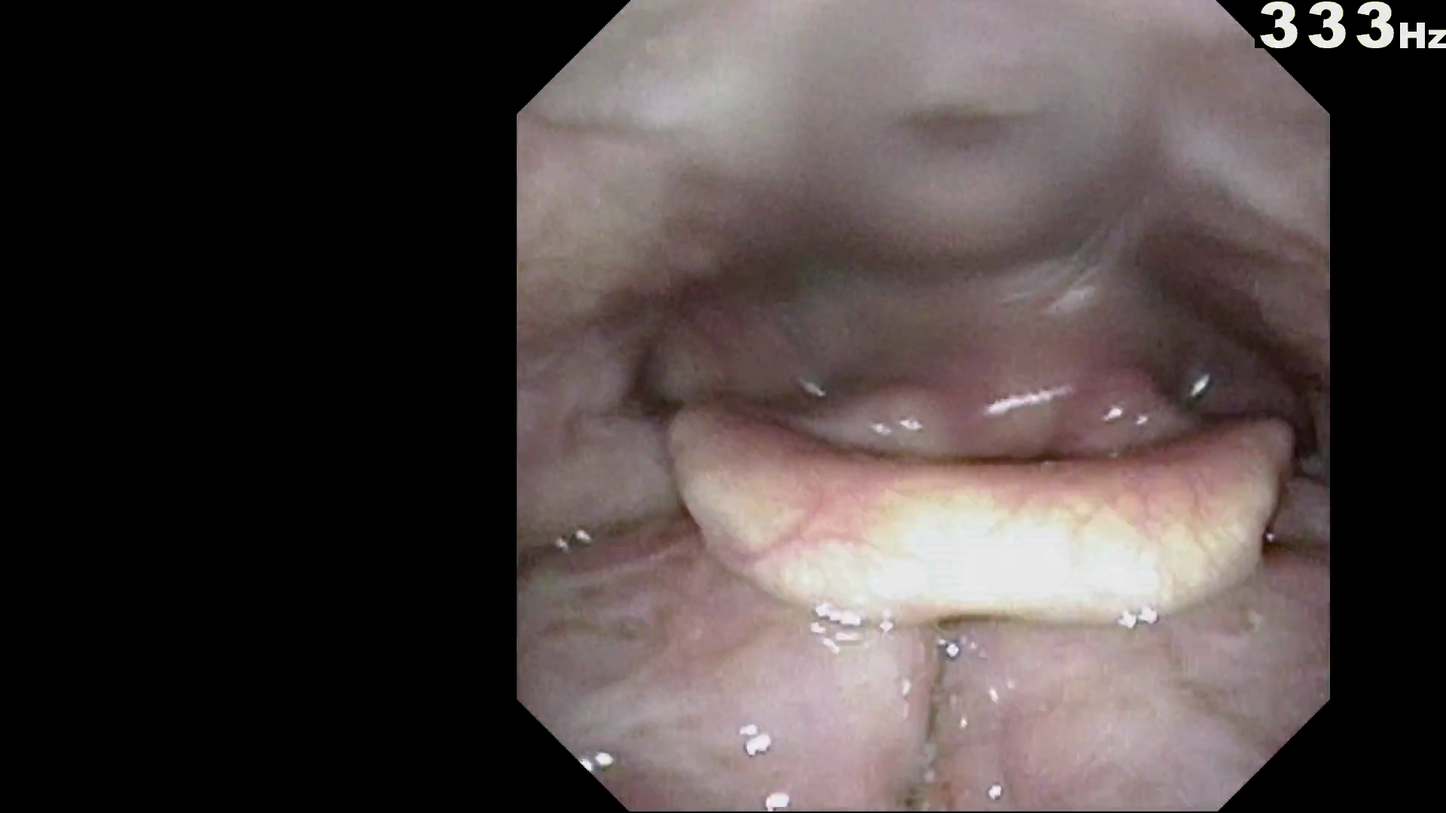epiglottis: (674, 416, 1283, 640)
trachea: (970, 487, 1033, 548)
